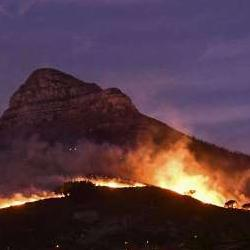fire: (163, 166, 219, 197), (2, 195, 36, 209), (93, 179, 145, 188)
